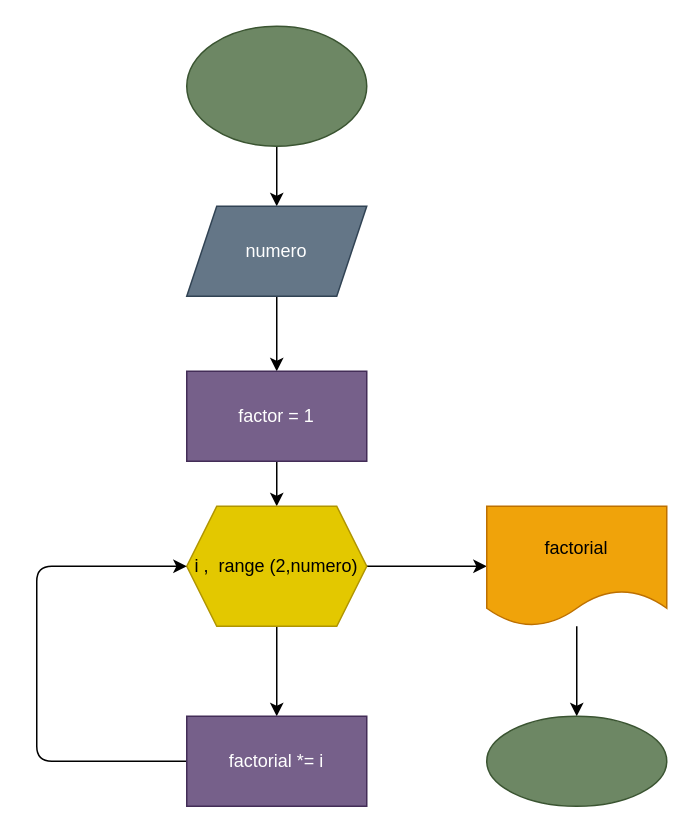
Image size: 693x833. Some labels were removed from this diagram. The centre of each missing label's shape, as x and y in pixels:
"FIN" belongs at point 576,760.
"INICIO" belongs at point 276,85.
